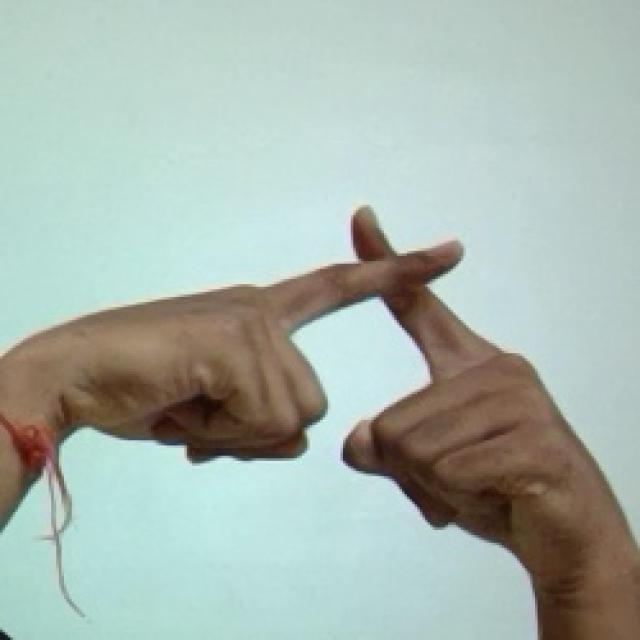Alphabet-X: (50, 188, 582, 560)
